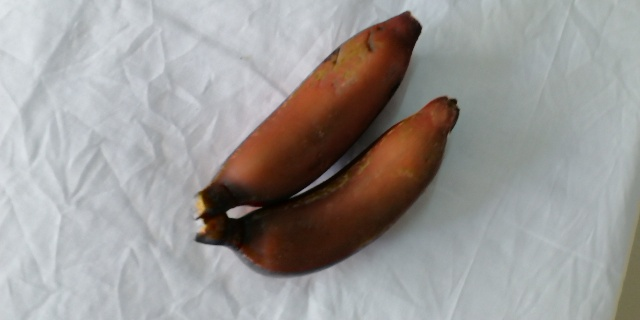banana_red: (192, 9, 427, 210), (217, 100, 461, 276)
